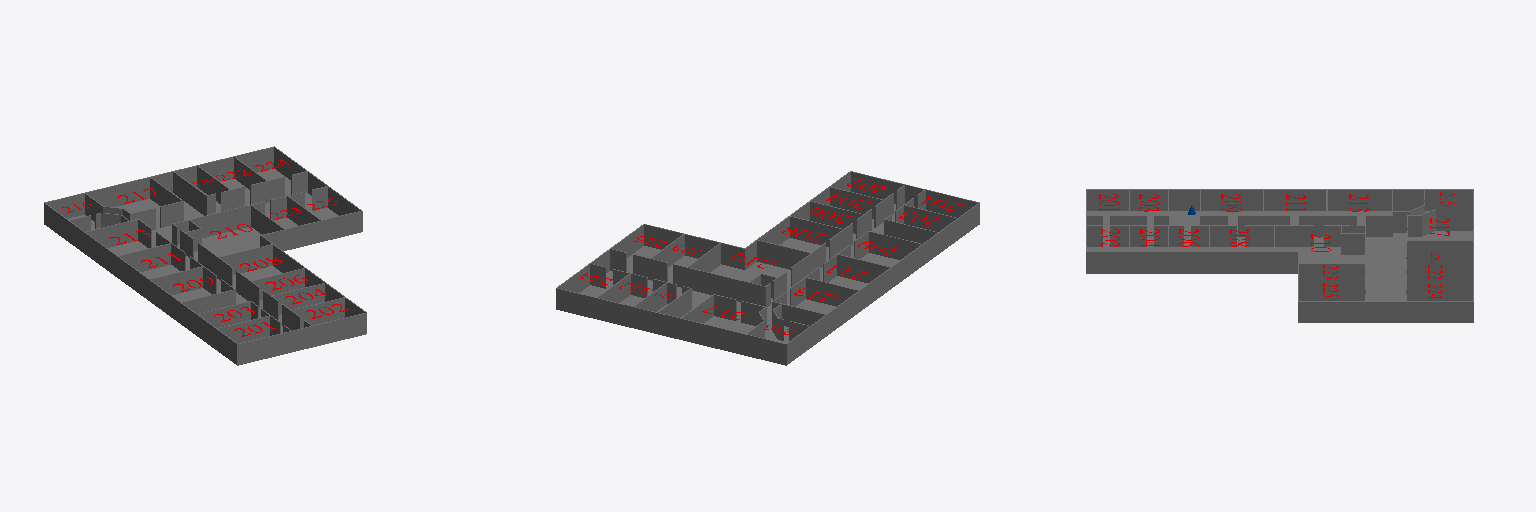
Rendered from sage2.obj.
3 views of the same model, side by side, from view 1: azimuth 30°, elevation 25°; view 2: azimuth 150°, elevation 25°; view 3: azimuth 270°, elevation 25° (orthographic).
Visible parts, largest first — view 1: pCube7 polySurface1 polySurface9, surface polySurface1 polySurface3, pCube9 polySurface1 polySurface11, pCube5 polySurface1 polySurface7, pCube8 polySurface1 polySurface10, surface polySurface2 polySurface1, pCube6 polySurface1 polySurface8, pCube24 polySurface1 polySurface21, pCube10 polySurface1 polySurface12, pCube63 polySurface1 polySurface47, pCube30 polySurface1 polySurface23, pCube65 polySurface1 polySurface49 (+12 smaller); view 2: pCube7 polySurface1 polySurface9, surface polySurface1 polySurface3, pCube8 polySurface1 polySurface10, pCube6 polySurface1 polySurface8, pCube24 polySurface1 polySurface21, pCube9 polySurface1 polySurface11, pCube5 polySurface1 polySurface7, surface polySurface2 polySurface1, pCube10 polySurface1 polySurface12, pCube63 polySurface1 polySurface47, pCube64 polySurface1 polySurface48, pCube62 polySurface1 polySurface46 (+10 smaller); view 3: pCube7 polySurface1 polySurface9, surface polySurface1 polySurface3, pCube10 polySurface1 polySurface12, pCube4 polySurface1 polySurface6, pCube74 polySurface1 polySurface58, pCube2 polySurface1 polySurface4, pCube60 polySurface1 polySurface44, pCube61 polySurface1 polySurface45, pCube3 polySurface1 polySurface5, pCube19 polySurface1 polySurface16, surface polySurface2 polySurface1, pCube31 polySurface1 polySurface24 (+9 smaller).
Boxes of the visible parts, box(x1,y1,x2,y2) form: pCube7 polySurface1 polySurface9: box(44, 203, 237, 365); surface polySurface1 polySurface3: box(68, 193, 282, 332); pCube9 polySurface1 polySurface11: box(238, 313, 366, 365); pCube5 polySurface1 polySurface7: box(262, 211, 362, 250); pCube8 polySurface1 polySurface10: box(44, 171, 173, 218); surface polySurface2 polySurface1: box(196, 169, 338, 248); pCube6 polySurface1 polySurface8: box(174, 146, 274, 186); pCube24 polySurface1 polySurface21: box(172, 201, 264, 243); pCube10 polySurface1 polySurface12: box(260, 235, 366, 317); pCube63 polySurface1 polySurface47: box(219, 244, 272, 274); pCube30 polySurface1 polySurface23: box(86, 219, 137, 247); pCube65 polySurface1 polySurface49: box(119, 243, 170, 271); pCube7 polySurface1 polySurface9: box(786, 203, 979, 365); surface polySurface1 polySurface3: box(682, 204, 899, 343); pCube8 polySurface1 polySurface10: box(657, 313, 785, 365); pCube6 polySurface1 polySurface8: box(556, 288, 657, 333); pCube24 polySurface1 polySurface21: box(673, 264, 765, 306); pCube9 polySurface1 polySurface11: box(850, 171, 979, 217); pCube5 polySurface1 polySurface7: box(644, 224, 745, 269); surface polySurface2 polySurface1: box(580, 246, 743, 311); pCube10 polySurface1 polySurface12: box(745, 172, 850, 269); pCube63 polySurface1 polySurface47: box(757, 240, 809, 269); pCube64 polySurface1 polySurface48: box(837, 254, 889, 282); pCube62 polySurface1 polySurface46: box(790, 216, 843, 246); pCube7 polySurface1 polySurface9: box(1087, 189, 1472, 210); surface polySurface1 polySurface3: box(1087, 211, 1472, 273); pCube10 polySurface1 polySurface12: box(1087, 252, 1297, 273); pCube4 polySurface1 polySurface6: box(1299, 301, 1412, 322); pCube74 polySurface1 polySurface58: box(1245, 225, 1313, 246); pCube2 polySurface1 polySurface4: box(1406, 301, 1472, 322); pCube60 polySurface1 polySurface44: box(1299, 282, 1364, 300); pCube61 polySurface1 polySurface45: box(1407, 282, 1472, 300); pCube3 polySurface1 polySurface5: box(1407, 264, 1472, 281); pCube19 polySurface1 polySurface16: box(1299, 264, 1364, 281); surface polySurface2 polySurface1: box(1366, 274, 1405, 300); pCube31 polySurface1 polySurface24: box(1191, 225, 1236, 246).
Size of the model in its own units: 2267 by 201 by 3298.